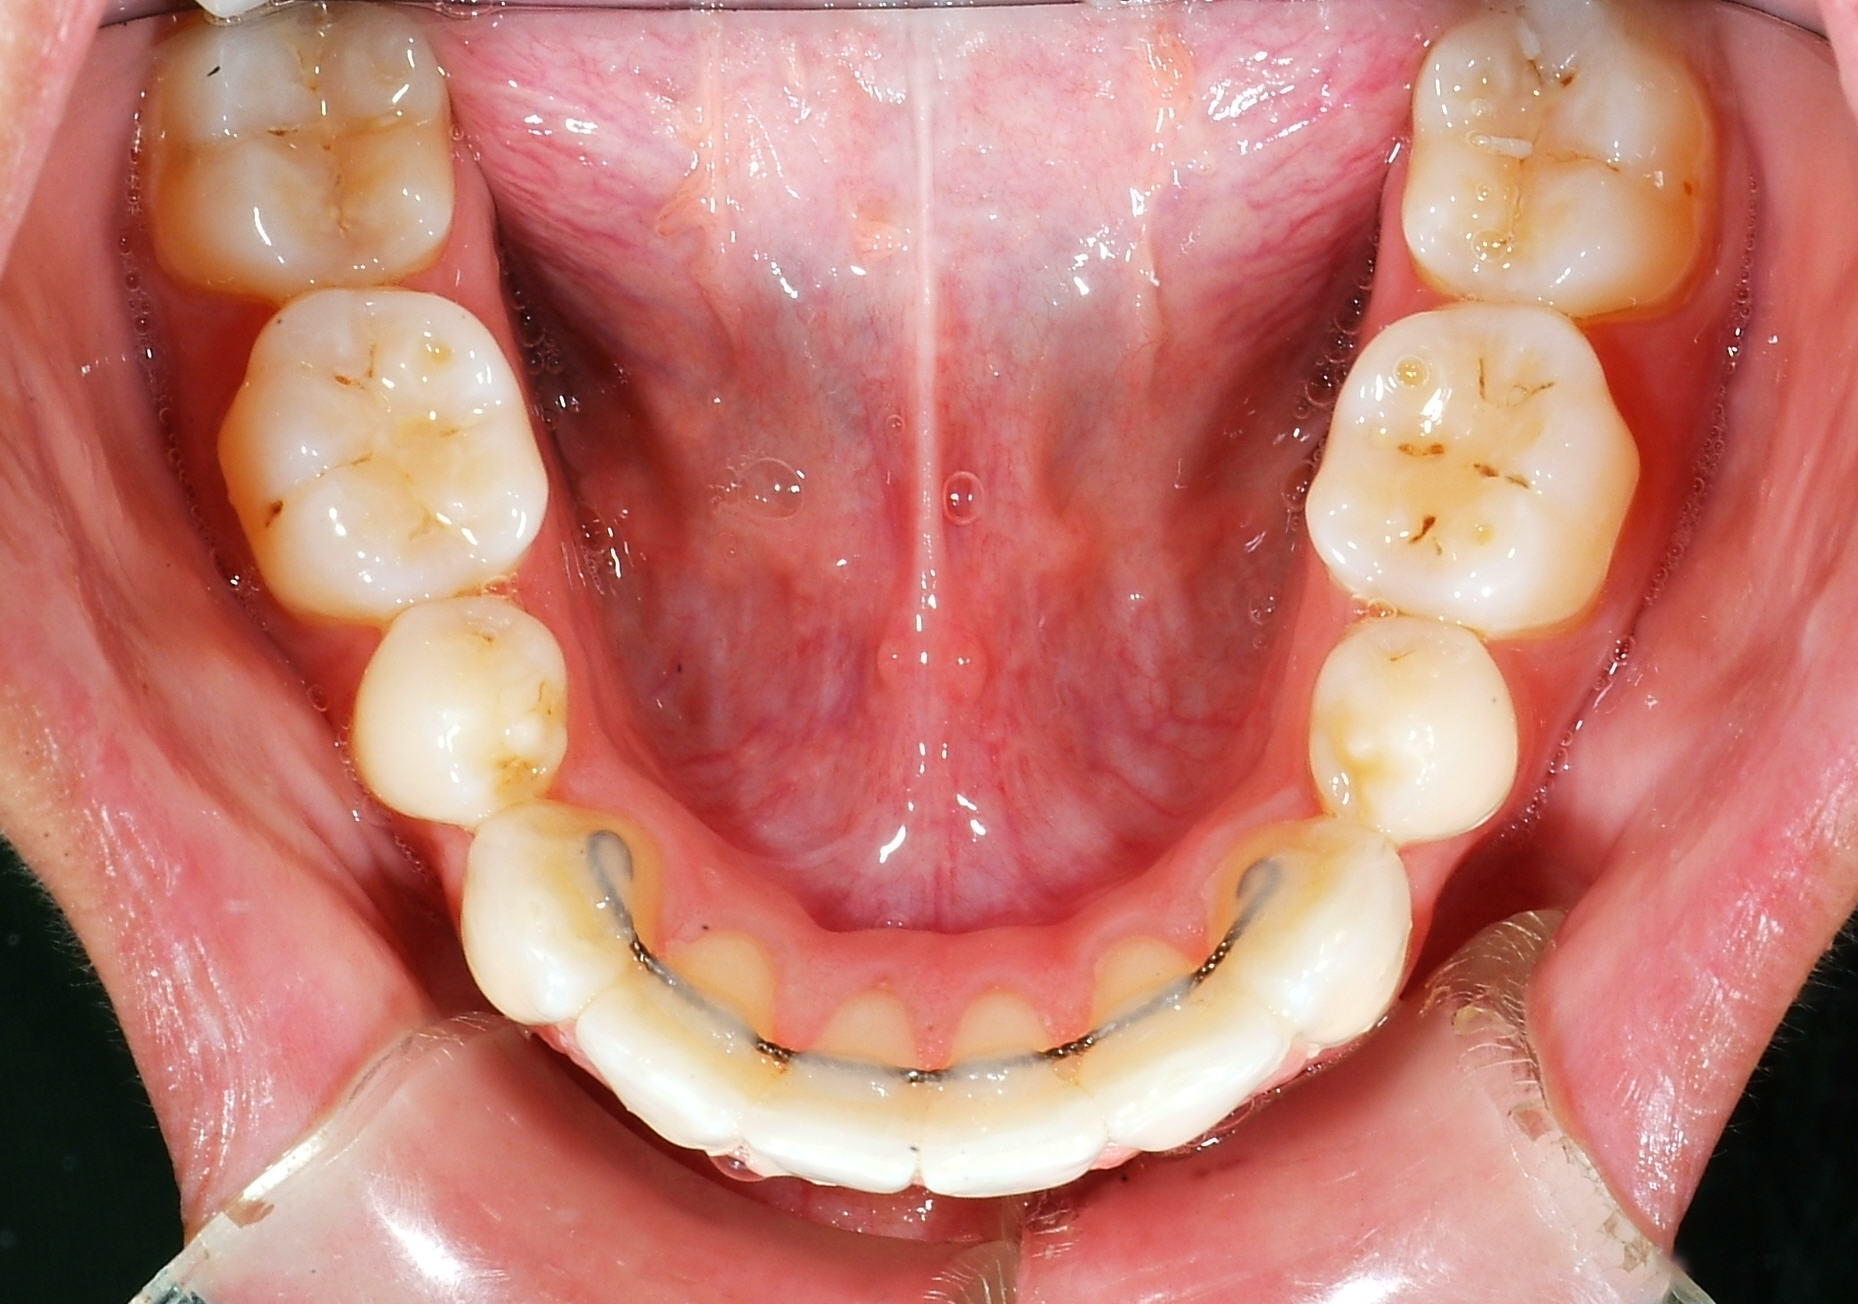LL1BC_healthy: (1302, 618, 1521, 844)
LL1M_decay: (1399, 1, 1725, 325)
LL2BC_decay: (1306, 309, 1625, 621)
LLCI_decay: (923, 981, 1097, 1202)
LLC_decay: (1194, 835, 1422, 1033)
LLLI_decay: (1073, 940, 1281, 1142)
LR1BC_decay: (350, 590, 576, 826)
LR1M_decay: (140, 8, 460, 294)
LR2BC_decay: (203, 289, 553, 622)
LRCI_decay: (753, 995, 921, 1200)
LRC_decay: (449, 792, 666, 1033)
LRLI_decay: (570, 929, 784, 1160)
